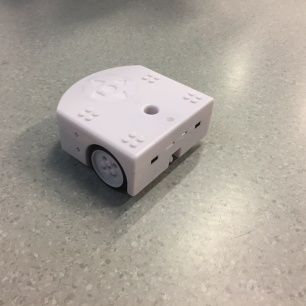thymio: (44, 60, 218, 200)
